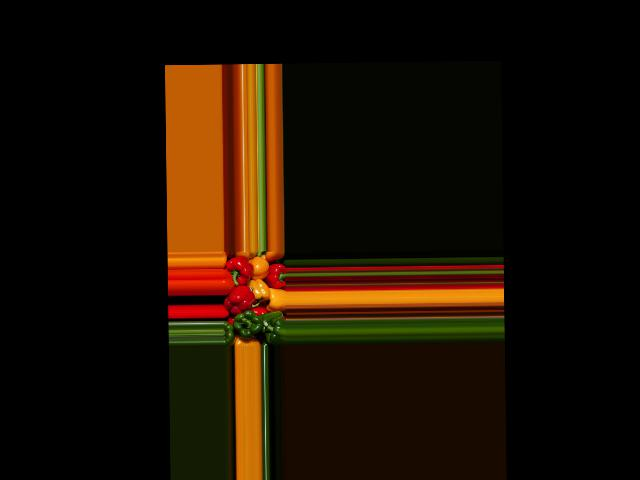bell_pepper: (222, 320, 237, 346)
